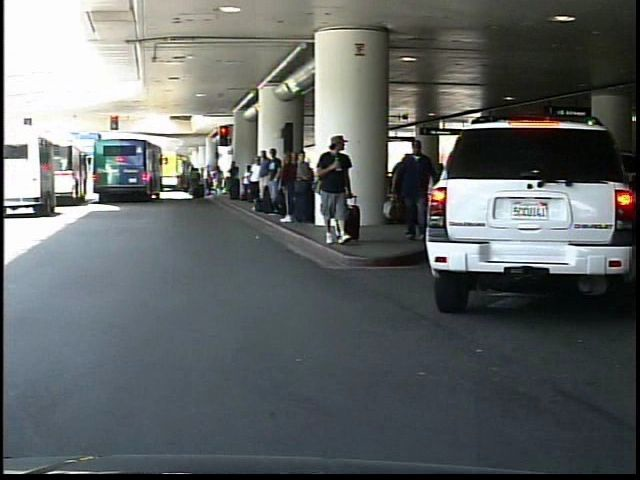person: (317, 130, 360, 247), (398, 131, 432, 248)
